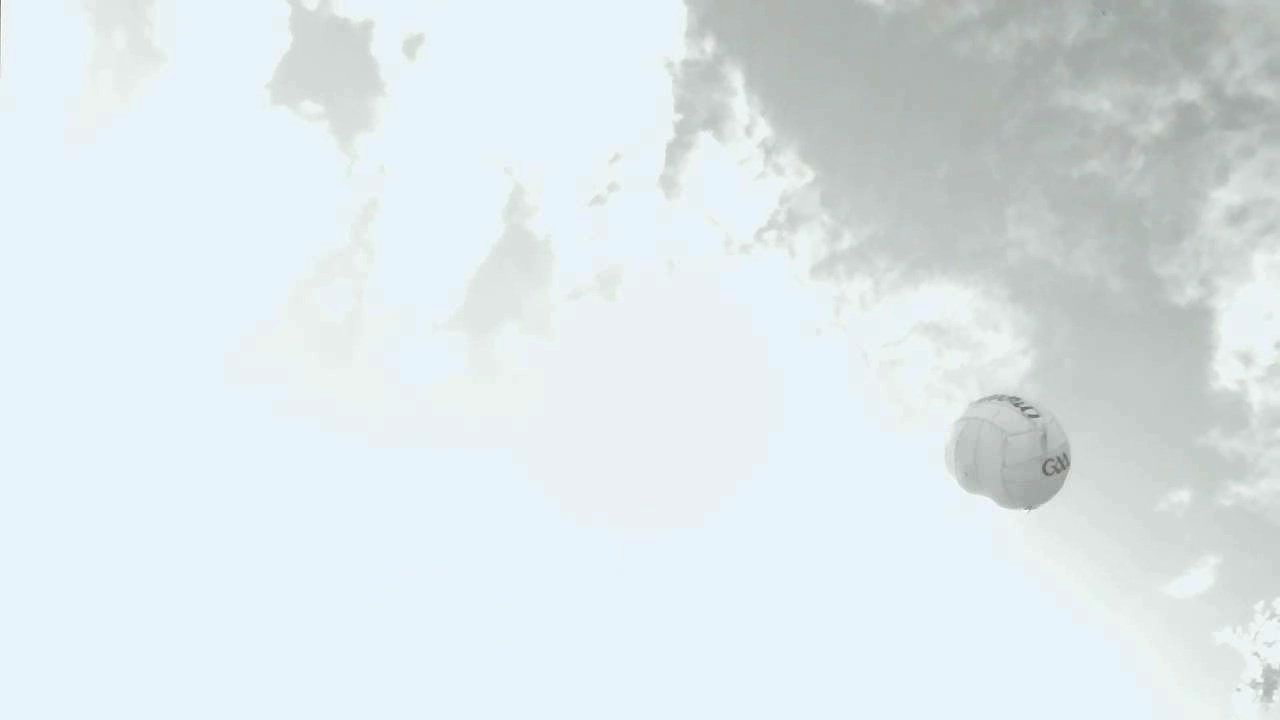Football-Spotter: (946, 394, 1069, 509)
